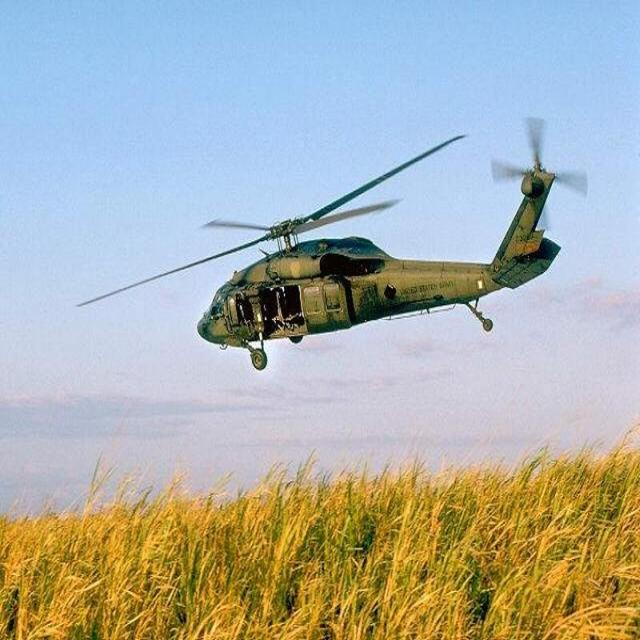MIL_HELO: (69, 117, 622, 376)
